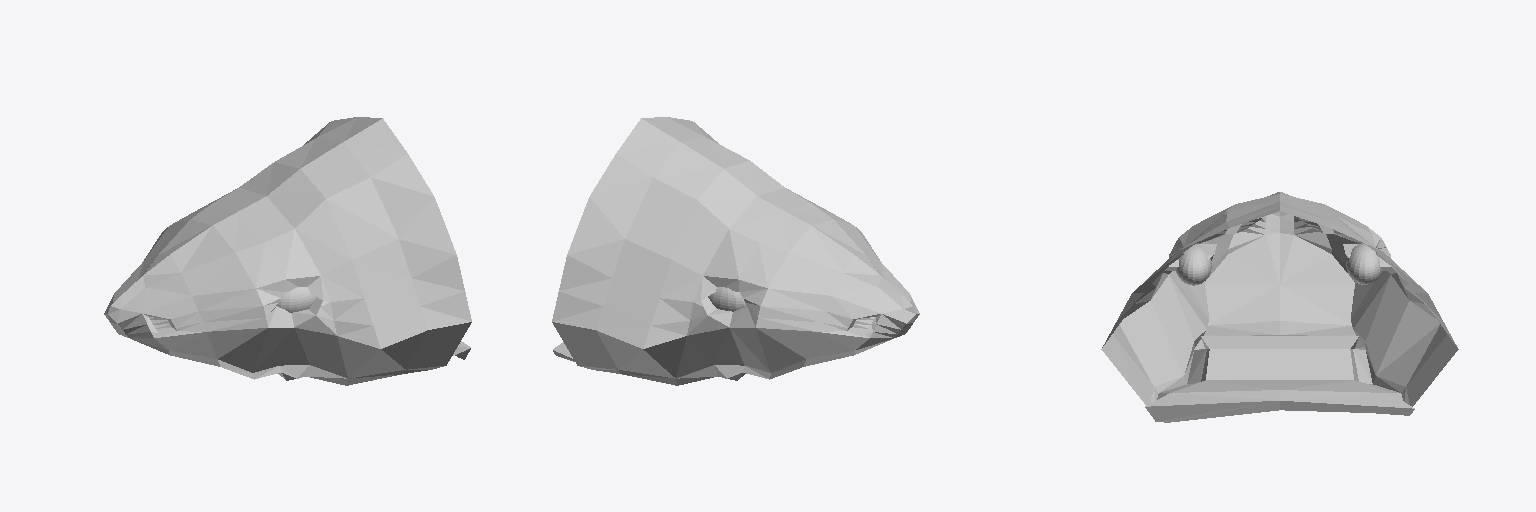
File: Head_Upper.obj
3 views of the same model, side by side, from view 1: azimuth 30°, elevation 25°; view 2: azimuth 150°, elevation 25°; view 3: azimuth 270°, elevation 25° (orthographic).
Visible parts, largest first — view 1: UpperHead pCylinder5, UpperHead pCylinder5 EyeL; view 2: UpperHead pCylinder5, UpperHead pCylinder5 EyeR; view 3: UpperHead pCylinder5, UpperHead pCylinder5 EyeR, UpperHead pCylinder5 EyeL.
Boxes of the visible parts, <box> form: UpperHead pCylinder5: <box>104,117,471,385</box>; UpperHead pCylinder5 EyeL: <box>277,287,316,312</box>; UpperHead pCylinder5: <box>552,117,919,385</box>; UpperHead pCylinder5 EyeR: <box>708,287,746,311</box>; UpperHead pCylinder5: <box>1101,192,1458,422</box>; UpperHead pCylinder5 EyeR: <box>1346,243,1381,284</box>; UpperHead pCylinder5 EyeL: <box>1176,244,1211,285</box>.
Size of the model in its own units: 3.73 by 2.56 by 3.89.